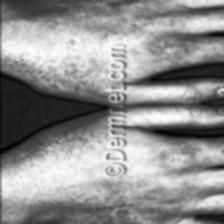Non-Cancerous Skin Condition: (0, 113, 224, 224)
